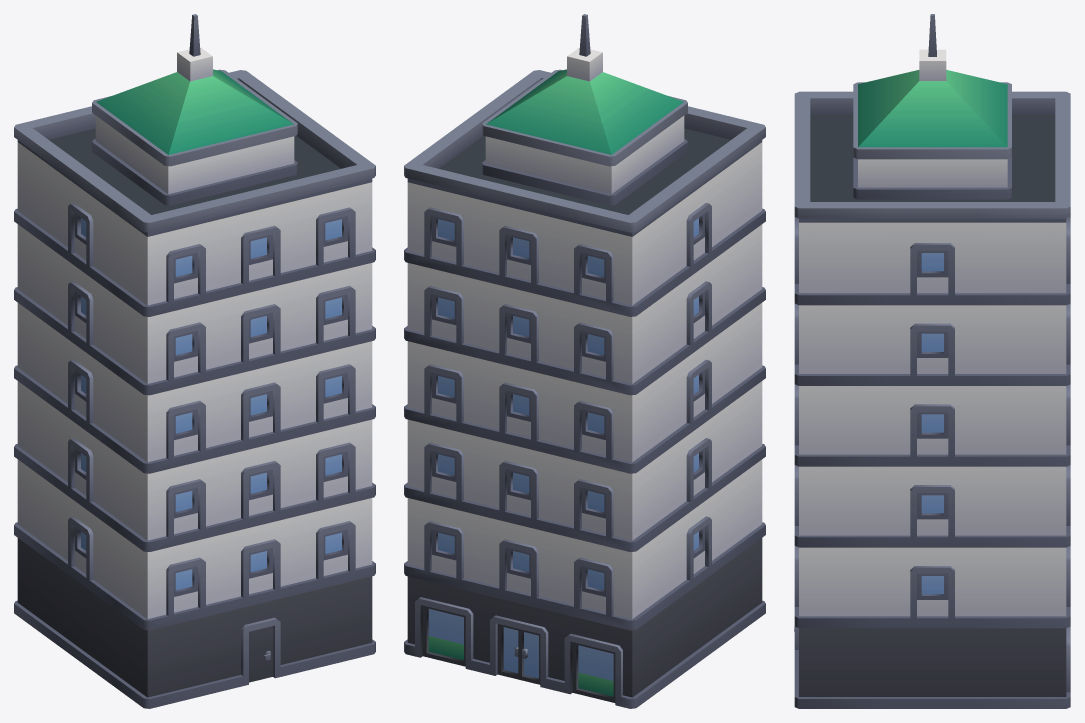
The model's file is k-city-kit-commercial-building-m.glb.
3 views of the same model, side by side, from view 1: azimuth 30°, elevation 25°; view 2: azimuth 150°, elevation 25°; view 3: azimuth 270°, elevation 25° (orthographic). The views are drawn at different scales.
Parts seen in each view (by area): view 1: building-m; view 2: building-m; view 3: building-m.
Boxes of the visible parts, x1,y1,x2,y2 form: building-m: (14,14,375,708); building-m: (404,14,765,708); building-m: (794,14,1070,708).
Size of the model in its own units: 1.24 by 3.15 by 1.24.
Materials: 1 (1 with a texture image).
